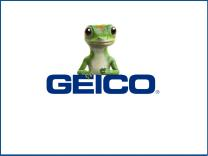geico: (46, 72, 158, 95)
